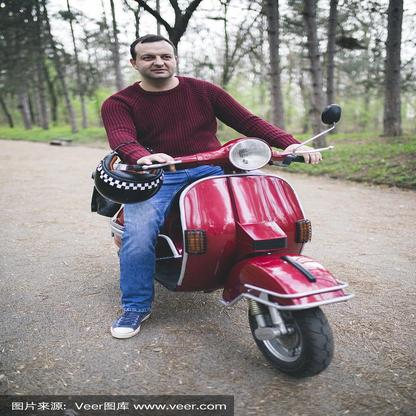target: (86, 34, 352, 379)
